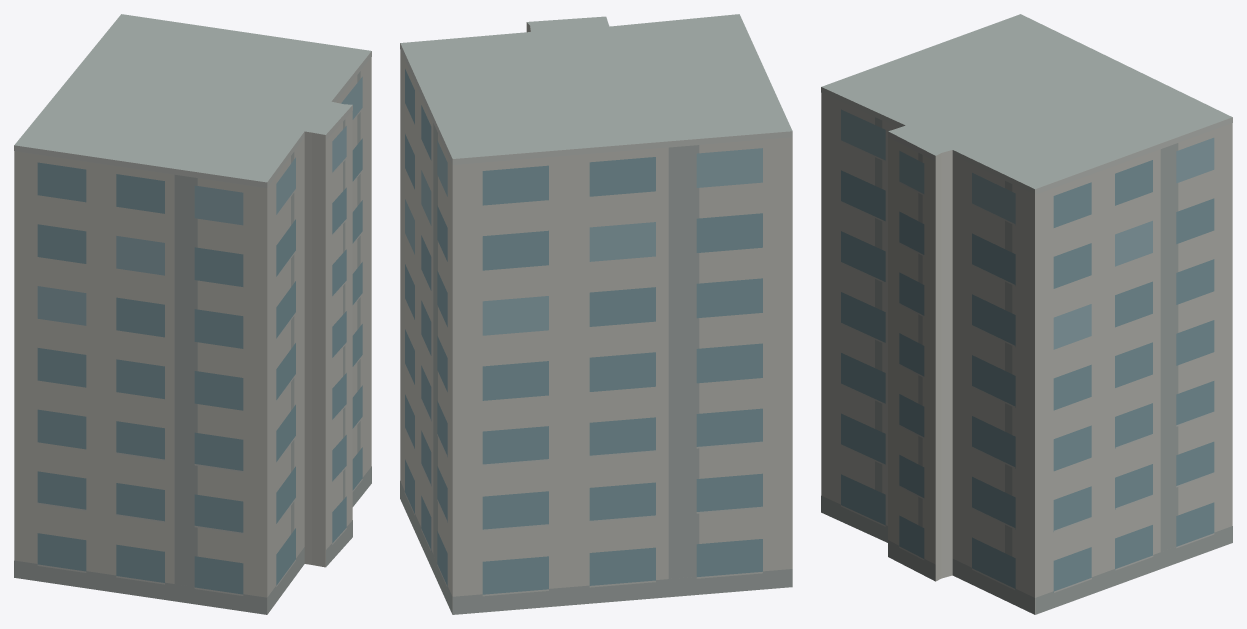
The model's file is survey-upis-32890879.glb.
3 renders of one model, left to right at view 1: azimuth 30°, elevation 25°; view 2: azimuth 150°, elevation 25°; view 3: azimuth 270°, elevation 25°, orthographic. The views are drawn at different scales.
Parts seen in each view (by area): view 1: survey-upis-32890879.tmp; view 2: survey-upis-32890879.tmp; view 3: survey-upis-32890879.tmp.
Boxes of the visible parts, bbox=[...] form: survey-upis-32890879.tmp: bbox=[14, 14, 371, 614]; survey-upis-32890879.tmp: bbox=[400, 14, 792, 614]; survey-upis-32890879.tmp: bbox=[821, 14, 1232, 614].
Bounding box in the file's own units: 15.99 × 18.1 × 15.87.
